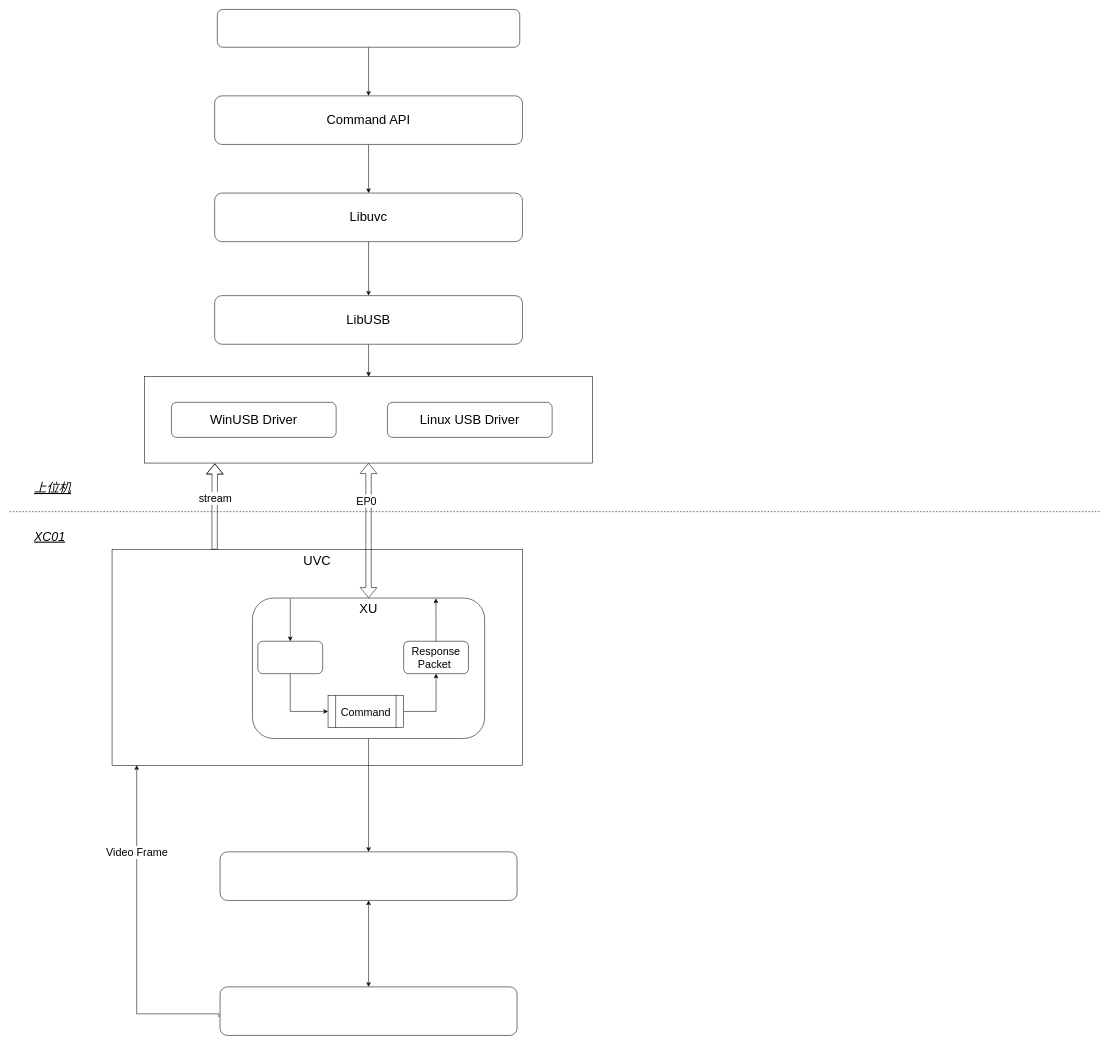
Some shapes in this 1110 by 1045 pixel diagram are drawn without their labels. Here are the shapes that lost their labels. From the top down, the centre of each, then its label:
At (368,28): "APP".
At (290,657): "incoming Packet".
At (368,875): "Command Handler".
At (368,1010): "XC01 MPP".
